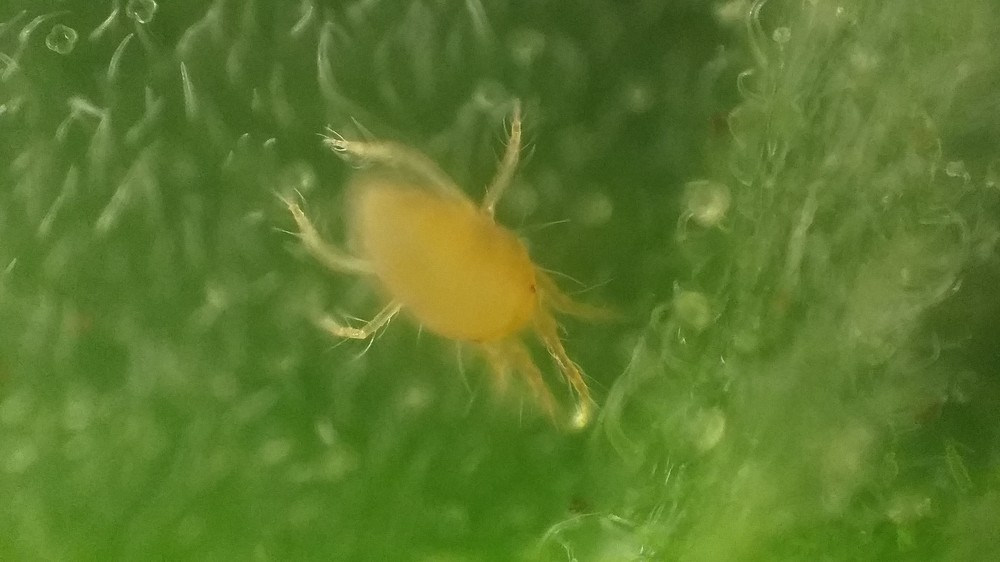Aracnido Rojo: (253, 97, 682, 442)
